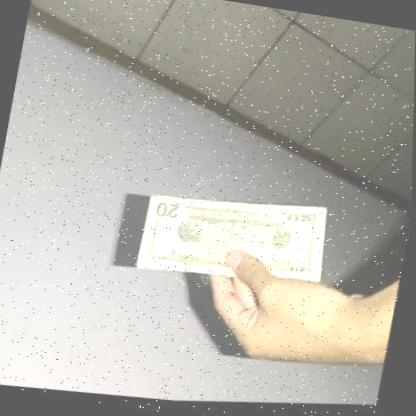twenty-back: (127, 172, 338, 310)
